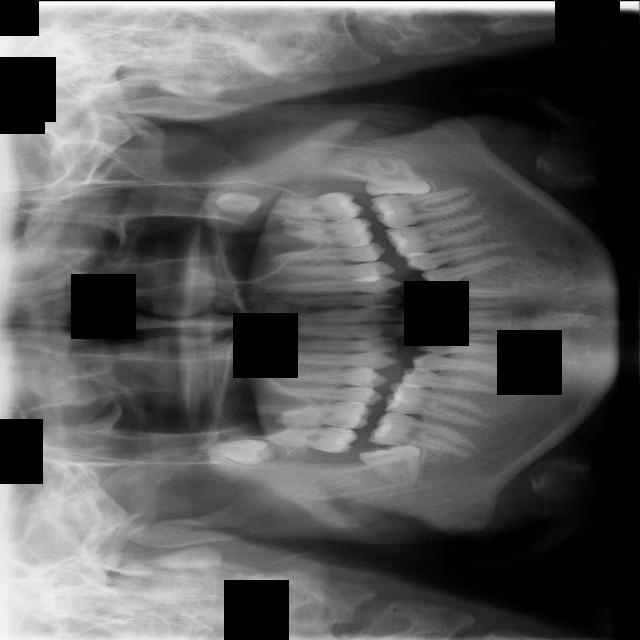3M ESPE Implant: (197, 439, 277, 463)
52: (421, 386, 431, 391)
73: (582, 22, 588, 26)
BioHorizons Implant: (247, 189, 365, 229)
BioLife Implant: (215, 189, 262, 216)
Biomet 3i Implant: (360, 151, 432, 197)
Blue Sky Bio Implant: (369, 185, 476, 230)
Caries: (241, 419, 359, 454)
Implant: (366, 408, 482, 458)
Keystone Dental Implant: (357, 442, 422, 488)
